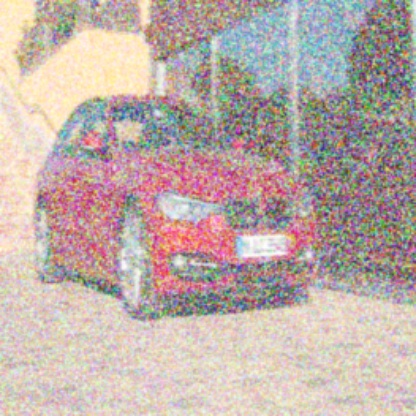Vehicle: (35, 93, 318, 322)
